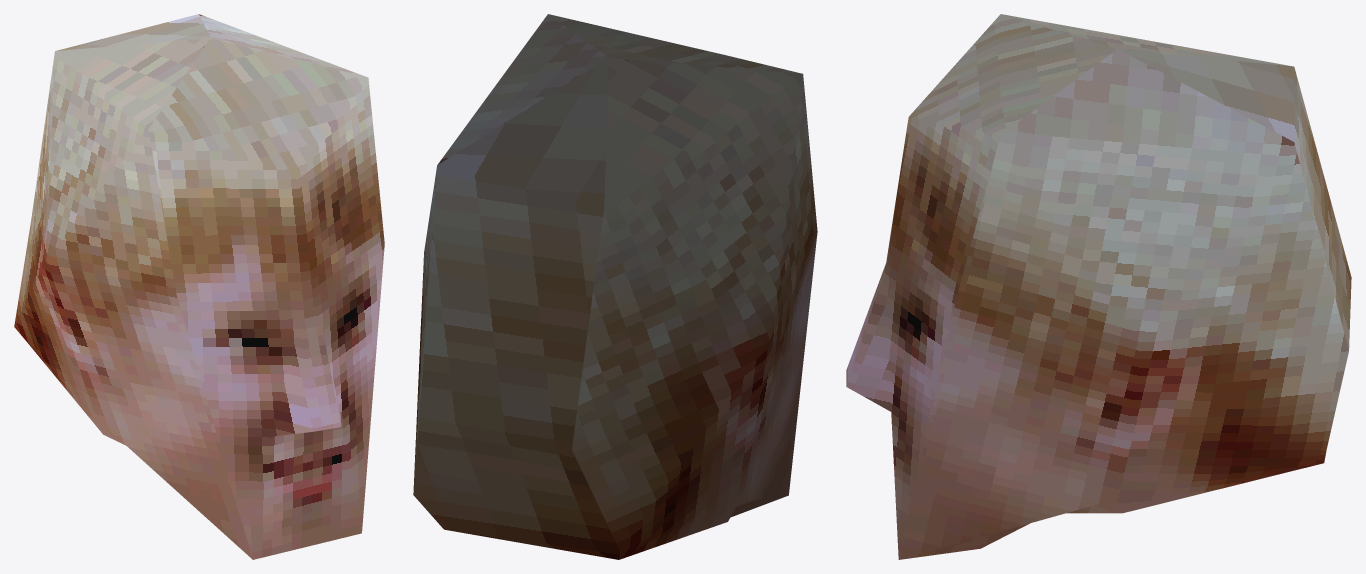
Rendered from Cheadjoe2Z.obj.
3 views of the same model, side by side, from view 1: azimuth 30°, elevation 25°; view 2: azimuth 150°, elevation 25°; view 3: azimuth 270°, elevation 25° (orthographic). The views are drawn at different scales.
Size of the model in its own units: 154 by 223 by 203.
6 materials, 6 textured.
